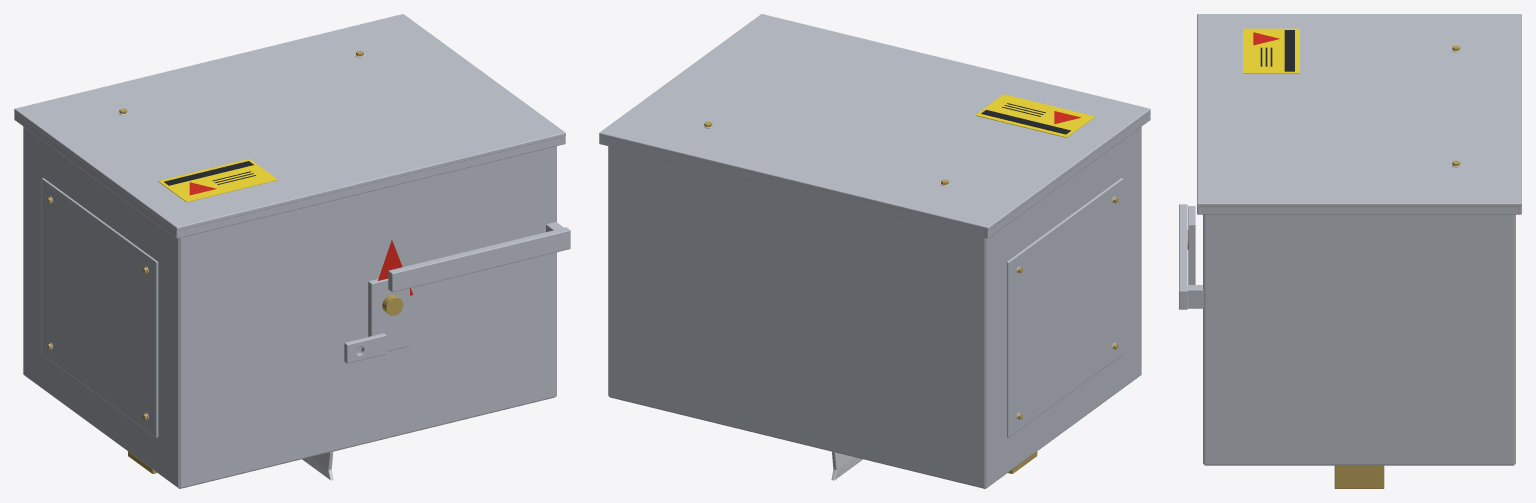
The model's file is tap-off.glb.
3 views of the same model, side by side, from view 1: azimuth 30°, elevation 25°; view 2: azimuth 150°, elevation 25°; view 3: azimuth 270°, elevation 25° (orthographic).
Parts seen in each view (by area): view 1: Side sheet, Lid sheet, Gland plate, End sheet, Long lever, Lid long return, Pivot plate, Yellow danger label, Lid end return, Lock tab; view 2: Side sheet.001, Lid sheet, Gland plate, End sheet, Lid long return.001, Yellow danger label, Lid end return; view 3: End sheet.001, Lid sheet, Lid end return.001, Yellow danger label, Earth return.001, Long lever, Pivot plate, Side sheet.001, Side sheet, Black warning header, Lever return.
Part boxes in pixels (box(x1,y1,x2,y2)): Side sheet: box(179, 146, 556, 488); Lid sheet: box(14, 14, 565, 230); Gland plate: box(41, 178, 158, 437); End sheet: box(23, 126, 179, 487); Long lever: box(388, 227, 570, 292); Lid long return: box(175, 137, 563, 238); Pivot plate: box(368, 278, 409, 351); Yellow danger label: box(158, 158, 277, 202); Lid end return: box(15, 113, 179, 238); Lock tab: box(344, 333, 386, 363); Side sheet.001: box(608, 146, 985, 488); Lid sheet: box(599, 14, 1150, 230); Gland plate: box(1007, 178, 1123, 437); End sheet: box(985, 127, 1141, 487); Lid long return.001: box(601, 137, 989, 238); Yellow danger label: box(975, 94, 1095, 137); Lid end return: box(985, 113, 1149, 238); End sheet.001: box(1204, 214, 1514, 464); Lid sheet: box(1197, 14, 1521, 206); Lid end return.001: box(1197, 207, 1521, 214); Yellow danger label: box(1243, 28, 1299, 73); Earth return.001: box(1334, 465, 1384, 488); Long lever: box(1179, 204, 1187, 309); Pivot plate: box(1188, 206, 1195, 284); Side sheet.001: box(1514, 214, 1515, 464); Side sheet: box(1203, 214, 1204, 464); Black warning header: box(1284, 30, 1294, 71); Lever return: box(1180, 285, 1204, 308).
Size of the model in its own units: 0.362 by 0.2958 by 0.2765.
